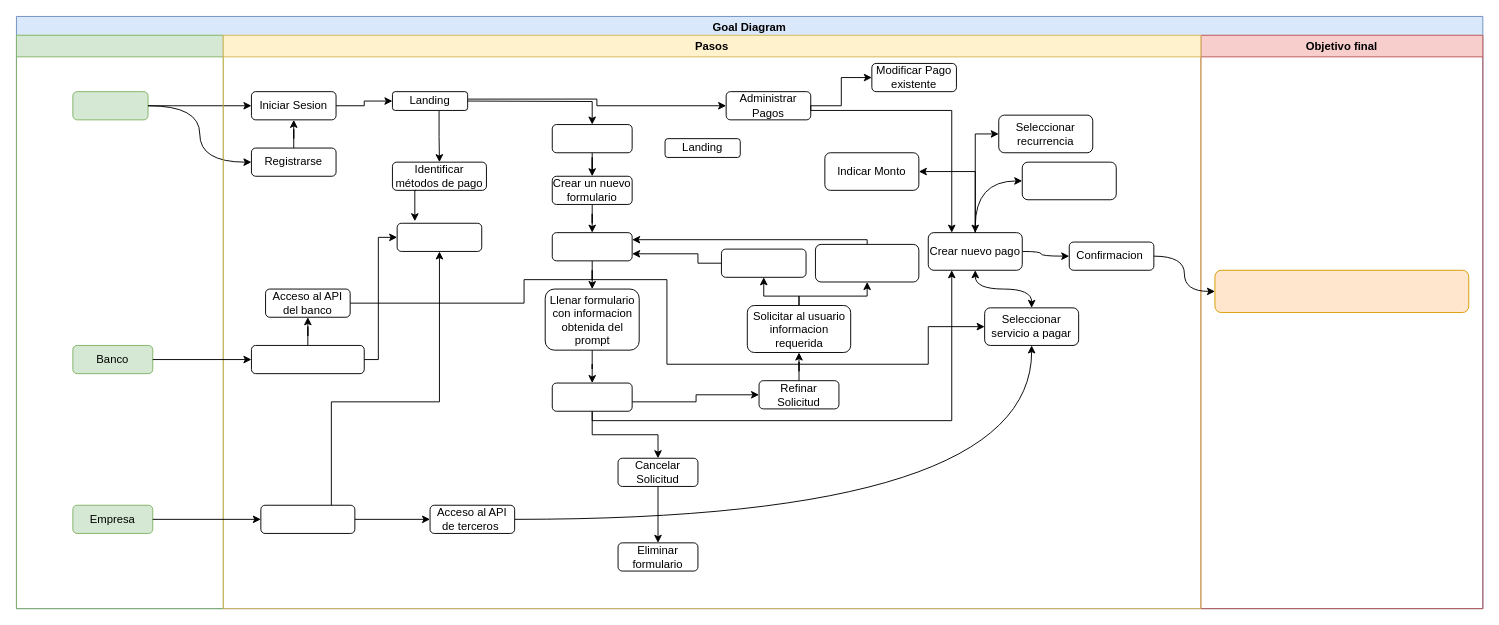
The diagram is 1499 pixels wide and 625 high, and some of its shapes have lost their labels. Each missing label, with the box of its shape:
Agregar un metodo de pago: (396, 222, 482, 251)
Configurar un pago a un servicio de manera recurrente: (1214, 269, 1469, 313)
Convenio con el pagos a terceros: (260, 504, 355, 533)
Convenio con identidad bancaria: (251, 345, 364, 374)
Entidades Involucradas: (16, 34, 223, 609)
Evaluar estado de solicitud: (551, 382, 632, 411)
Indicar informacion textual: (815, 243, 919, 282)
Iniciar un prompt por voz: (551, 124, 632, 153)
Procesar el prompt: (551, 232, 632, 261)
Responder con voz: (721, 248, 806, 277)
Seleccionar metodo de pago: (1021, 161, 1116, 200)
Usuarios: (72, 91, 148, 120)
